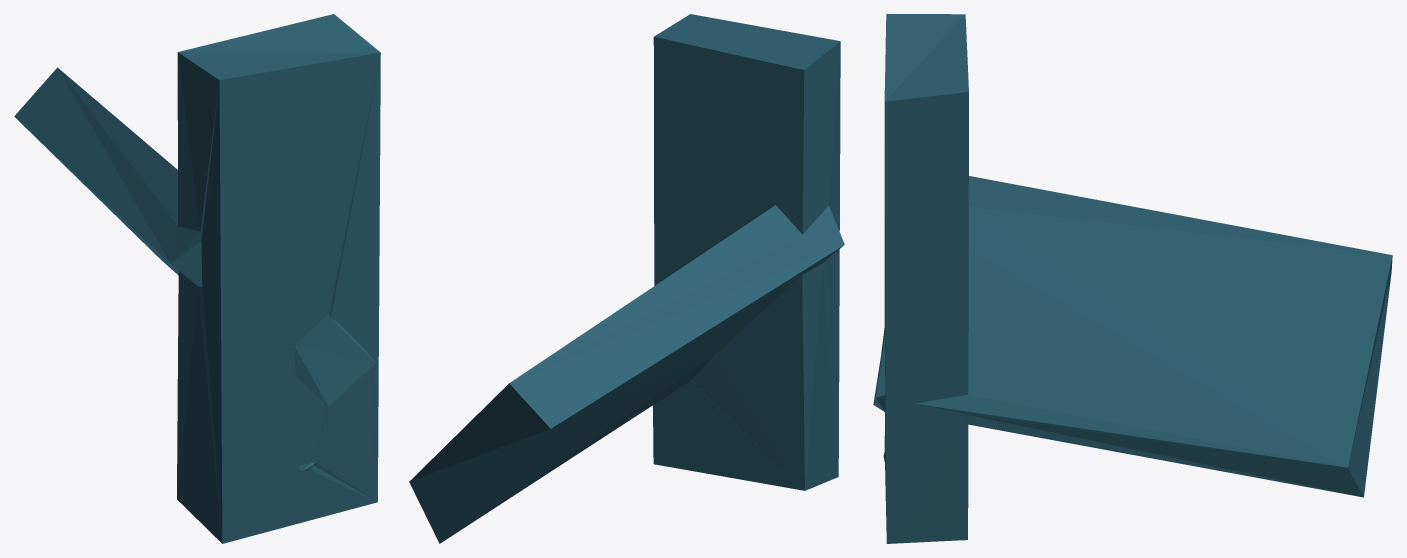
3 views of the same model, side by side, from view 1: azimuth 30°, elevation 25°; view 2: azimuth 150°, elevation 25°; view 3: azimuth 270°, elevation 25° (orthographic). The views are drawn at different scales.
Visible parts, largest first — view 1: 423_Cube.1719; view 2: 423_Cube.1719; view 3: 423_Cube.1719.
Part boxes in pixels (x1,y1,x2,y2): 423_Cube.1719: [14, 14, 380, 543]; 423_Cube.1719: [409, 14, 844, 543]; 423_Cube.1719: [873, 14, 1392, 543].
Bounding box in the file's own units: 6.98 × 12.33 × 12.71.
